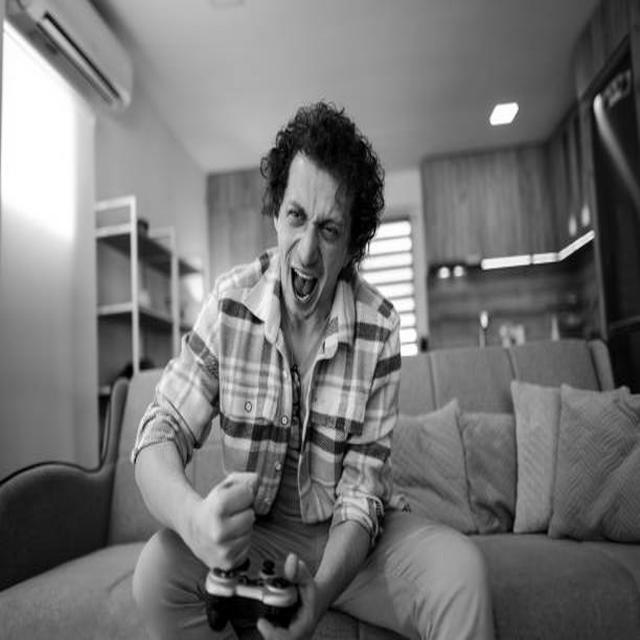Angry: (276, 162, 351, 319)
